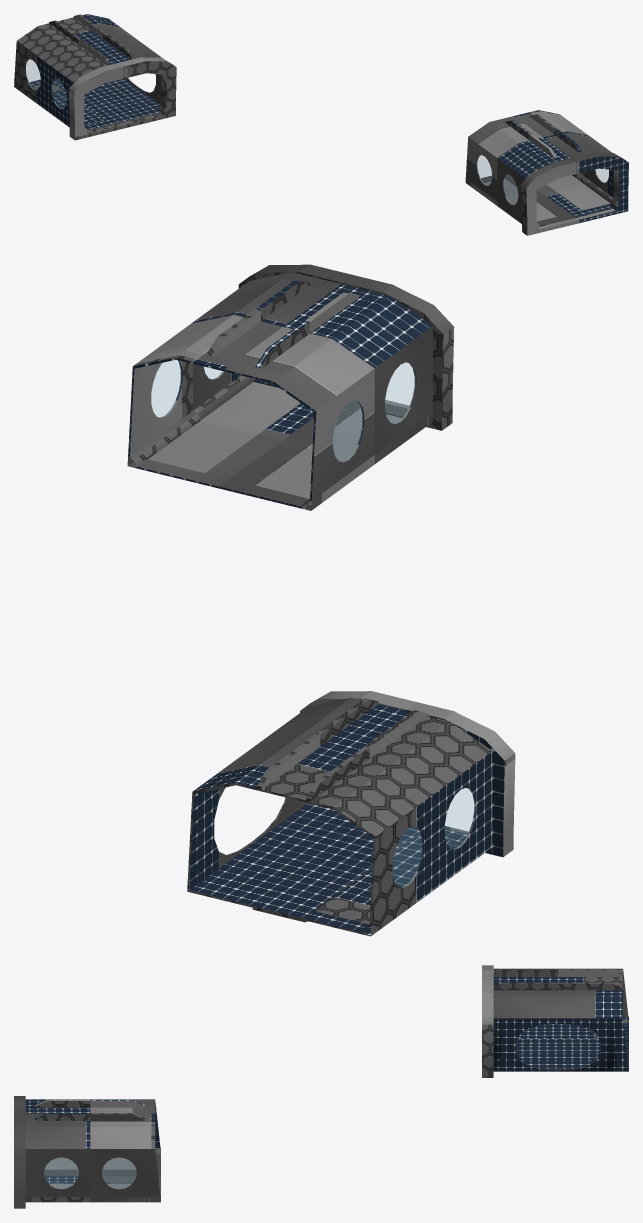
The model's file is Section01.fbx.
3 renders of one model, top to bottom at view 1: azimuth 30°, elevation 25°; view 2: azimuth 150°, elevation 25°; view 3: azimuth 270°, elevation 25°, orthographic. The views are drawn at different scales.
Parts seen in each view (by area): view 1: 1WindowOriginal, 1DoorSectionBase; view 2: 1WindowOriginal, 1DoorSectionBase; view 3: 1WindowOriginal, 1DoorSectionBase.
Part boxes in pixels (<box>): 1WindowOriginal: <box>465,110,628,235</box>; 1DoorSectionBase: <box>14,14,176,140</box>; 1WindowOriginal: <box>127,264,454,510</box>; 1DoorSectionBase: <box>187,691,515,936</box>; 1WindowOriginal: <box>14,1096,160,1208</box>; 1DoorSectionBase: <box>482,965,628,1077</box>.
Size of the model in its own units: 738 by 138 by 1029.
4 materials, 2 textured.
